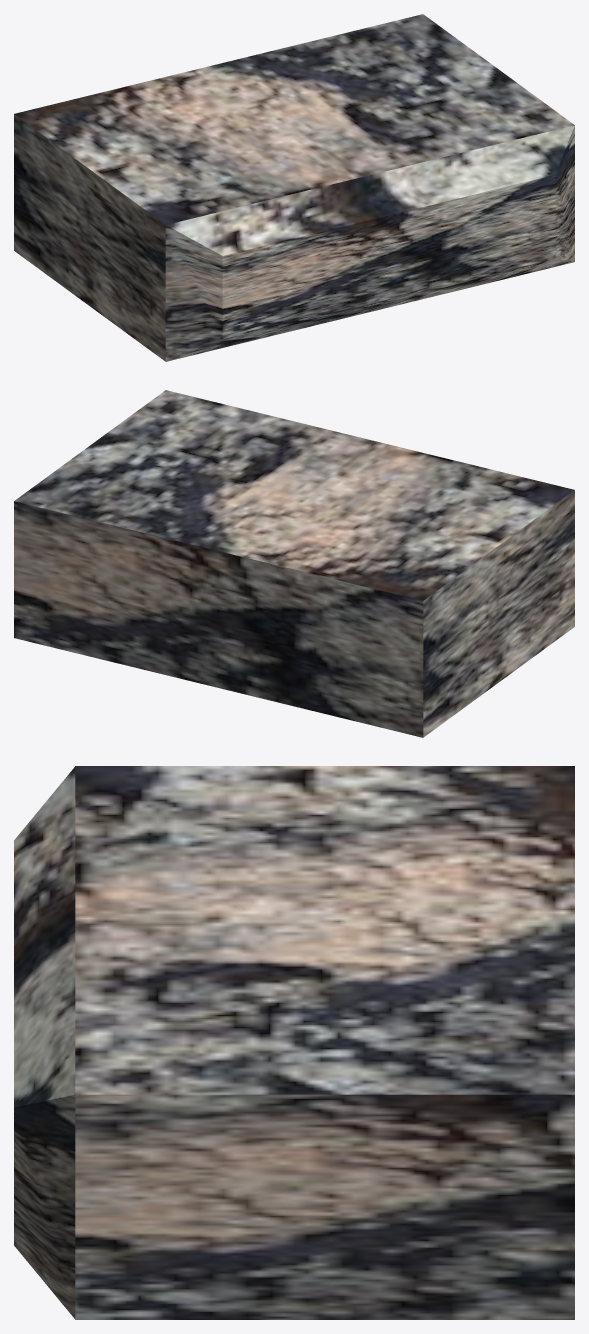
The model's file is rock.glb.
3 renders of one model, top to bottom at view 1: azimuth 30°, elevation 25°; view 2: azimuth 150°, elevation 25°; view 3: azimuth 270°, elevation 25°, orthographic. The views are drawn at different scales.
Parts seen in each view (by area): view 1: Rock; view 2: Rock; view 3: Rock.
Part boxes in pixels (<box>): Rock: <box>14,14,574,361</box>; Rock: <box>14,390,574,737</box>; Rock: <box>14,766,574,1319</box>.
Bounding box in the file's own units: 3.11 × 0.9947 × 2.25.
Materials: 1 (1 with a texture image).
